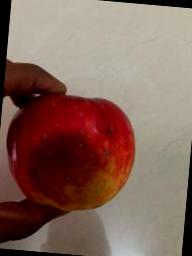Apple Overripe: (1, 78, 149, 236)
